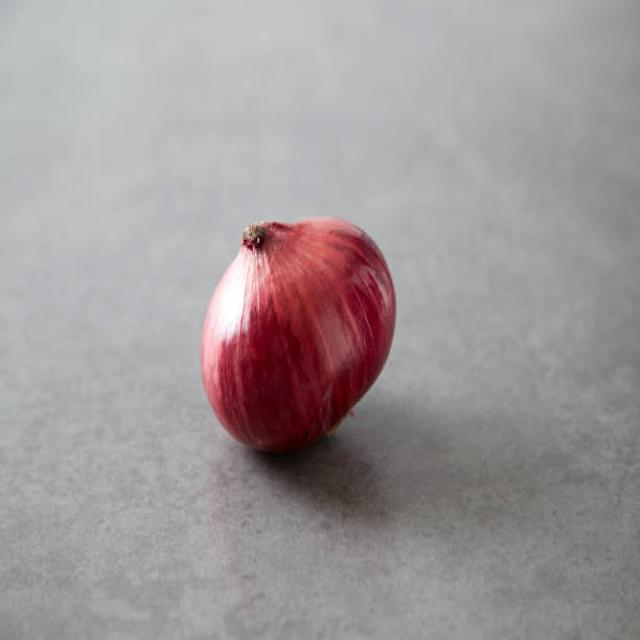onion: (200, 210, 403, 450)
